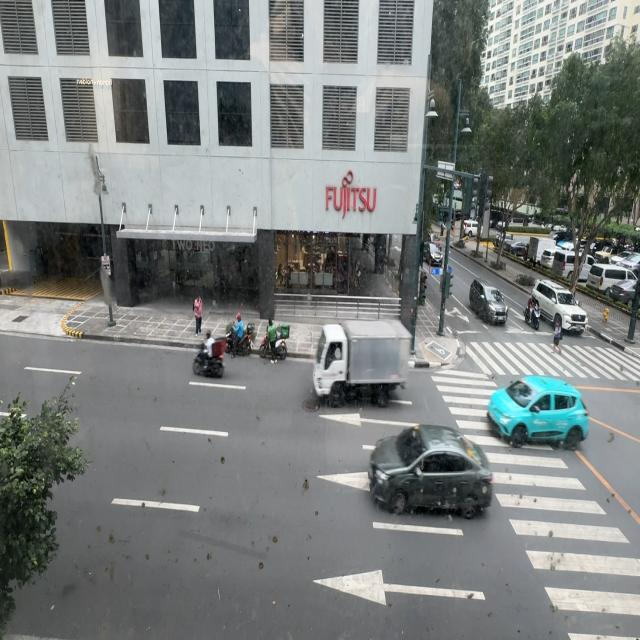crossing: (553, 316, 563, 351)
pedestrain: (194, 295, 204, 337)
